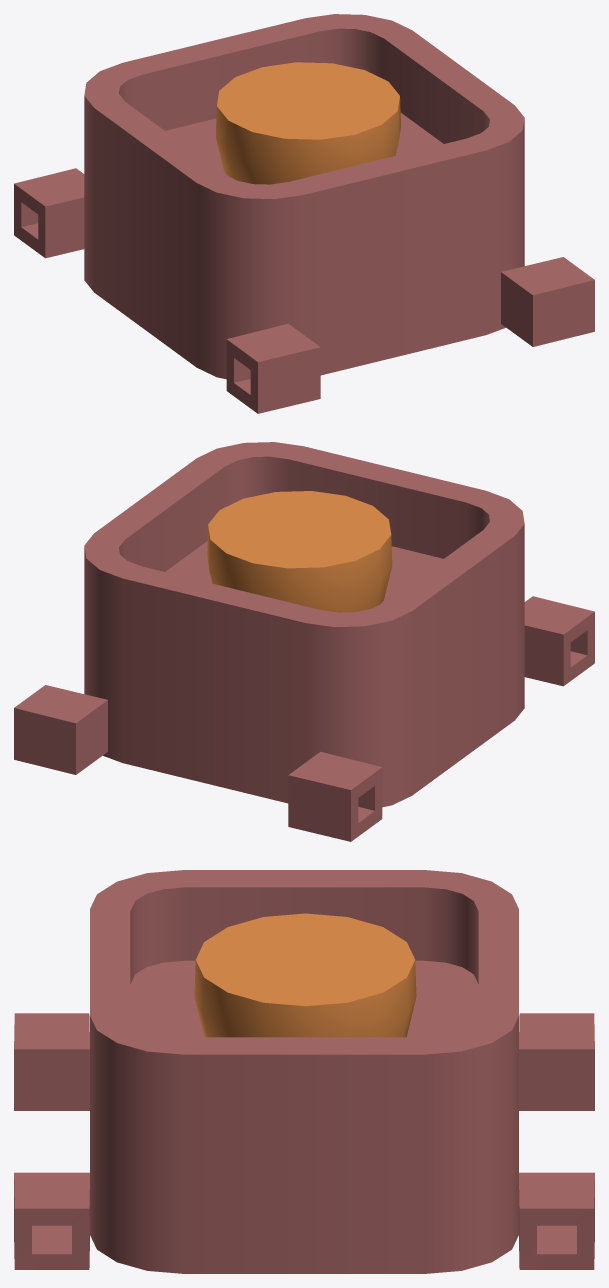
The picture shows the model from 3 angles, top to bottom: view 1: azimuth 30°, elevation 25°; view 2: azimuth 150°, elevation 25°; view 3: azimuth 270°, elevation 25°; orthographic projection. The views are drawn at different scales.
Parts seen in each view (by area): view 1: 1; view 2: 1; view 3: 1.
Part boxes in pixels (<box>): 1: <box>14,14,594,413</box>; 1: <box>14,442,594,841</box>; 1: <box>14,870,594,1273</box>.
Bounding box in the file's own units: 7.97 × 4.27 × 10.02.
